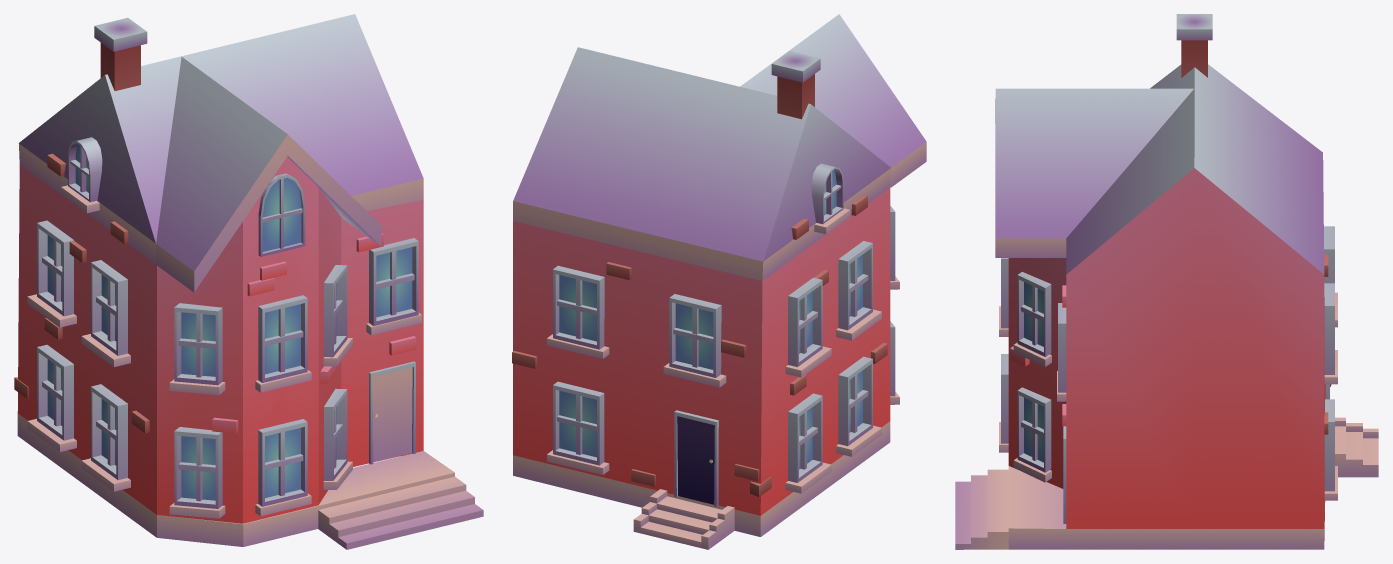
File: SM_House_L_Short_BackDoor_01.fbx
3 views of the same model, side by side, from view 1: azimuth 30°, elevation 25°; view 2: azimuth 150°, elevation 25°; view 3: azimuth 270°, elevation 25° (orthographic). The views are drawn at different scales.
Parts seen in each view (by area): view 1: SM_House_L_Short_BackDoor_01; view 2: SM_House_L_Short_BackDoor_01; view 3: SM_House_L_Short_BackDoor_01.
Part boxes in pixels (x1,y1,x2,y2): SM_House_L_Short_BackDoor_01: (14,14,483,549); SM_House_L_Short_BackDoor_01: (512,14,926,549); SM_House_L_Short_BackDoor_01: (955,14,1378,549).
Bounding box in the file's own units: 7.23 × 10 × 10.97.
